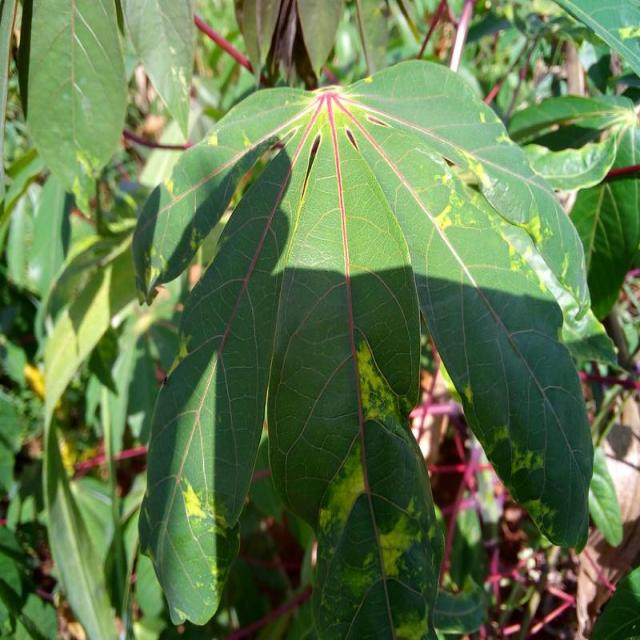cassava leaf: (132, 58, 608, 634)
